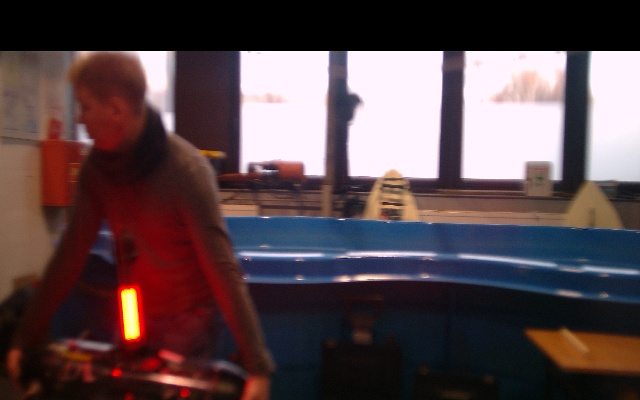red: (119, 286, 141, 344)
